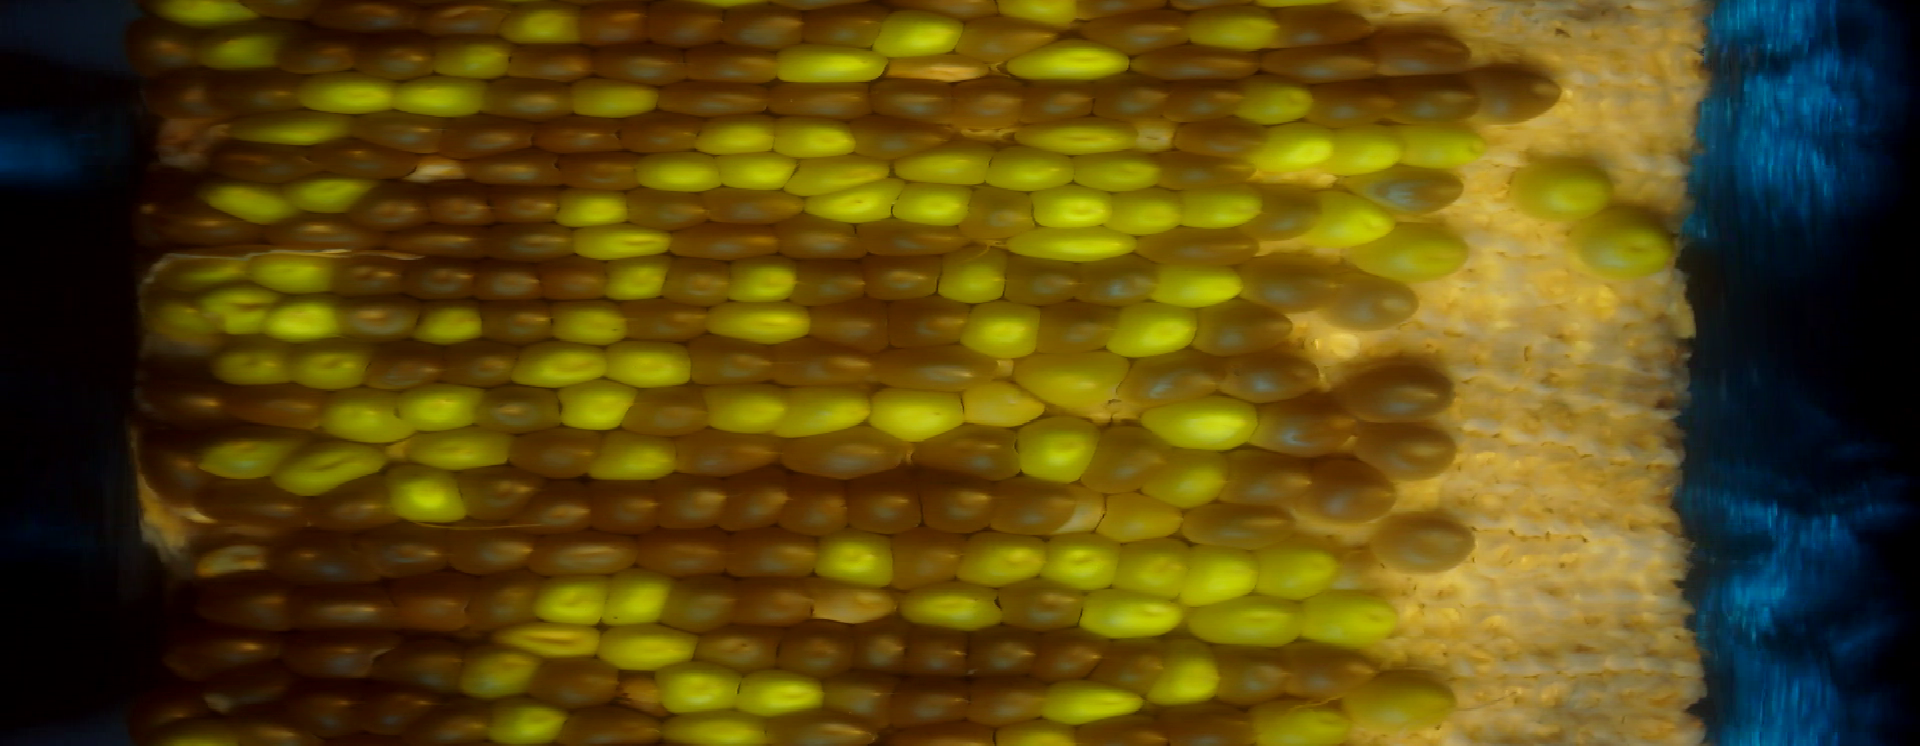fluorescent: (1566, 201, 1678, 281), (1009, 412, 1107, 488), (1341, 224, 1467, 283), (1018, 348, 1129, 412), (1130, 396, 1261, 448), (1184, 590, 1309, 646), (1513, 160, 1619, 223), (1076, 590, 1200, 641), (321, 383, 413, 450), (1357, 677, 1461, 735), (277, 439, 381, 495), (779, 381, 876, 440), (862, 387, 967, 441), (809, 527, 898, 590), (1007, 116, 1145, 157), (1109, 296, 1209, 353), (1304, 587, 1400, 644), (587, 428, 681, 485), (1003, 223, 1140, 262), (197, 430, 309, 478), (958, 296, 1041, 360), (602, 620, 703, 673), (900, 579, 1007, 628), (771, 40, 889, 85), (296, 69, 399, 119), (898, 140, 996, 192), (1010, 40, 1133, 82), (204, 178, 305, 228), (1258, 695, 1356, 746), (1117, 533, 1189, 601), (549, 376, 640, 430), (699, 379, 791, 432), (656, 659, 742, 717), (1184, 4, 1282, 54), (709, 296, 812, 344), (962, 529, 1049, 586), (403, 424, 517, 467), (873, 6, 967, 58), (1251, 540, 1335, 598), (387, 464, 467, 524), (400, 382, 484, 439), (607, 334, 694, 388), (654, 703, 763, 746), (1042, 534, 1128, 588), (211, 334, 298, 387), (1102, 488, 1187, 541), (228, 111, 350, 148), (500, 619, 604, 661), (247, 249, 340, 296), (771, 111, 862, 160), (284, 171, 382, 217), (516, 339, 613, 385), (1187, 540, 1258, 603), (465, 638, 539, 698), (1073, 146, 1162, 195), (562, 222, 677, 260), (1250, 122, 1335, 174), (1404, 122, 1487, 175), (1144, 453, 1226, 506), (203, 20, 291, 69), (535, 570, 609, 628), (571, 71, 662, 118), (634, 148, 726, 195), (807, 176, 900, 222), (733, 670, 824, 717), (1315, 190, 1391, 245), (934, 246, 1007, 304), (200, 281, 277, 334), (1157, 638, 1220, 704), (1177, 185, 1267, 230), (1236, 72, 1313, 125), (1038, 677, 1139, 718), (1025, 183, 1117, 227), (965, 382, 1051, 429), (391, 78, 492, 118), (602, 570, 675, 625), (696, 111, 779, 159), (1333, 122, 1407, 176), (986, 146, 1075, 190), (546, 303, 633, 348), (291, 341, 376, 387), (1155, 262, 1240, 307), (489, 695, 563, 746), (722, 256, 804, 303), (411, 299, 489, 348), (893, 178, 973, 224), (711, 149, 800, 191), (1102, 186, 1183, 232), (160, 250, 247, 292), (269, 296, 349, 341), (787, 159, 889, 192), (556, 185, 633, 228), (604, 254, 671, 303), (438, 37, 512, 80), (497, 7, 583, 43)
nonfluorescent: (142, 191, 266, 249), (1251, 390, 1360, 454), (1370, 513, 1478, 578), (1347, 360, 1458, 423), (904, 425, 1024, 483), (782, 428, 917, 478), (197, 475, 317, 532), (193, 570, 298, 635), (1191, 293, 1298, 355), (1329, 267, 1424, 334), (1242, 254, 1344, 316), (211, 134, 321, 191), (1287, 635, 1379, 703), (1223, 441, 1314, 510), (1308, 454, 1402, 519), (1344, 162, 1463, 213), (845, 469, 929, 541), (291, 577, 397, 635), (991, 477, 1082, 540), (673, 428, 792, 477), (721, 527, 828, 581), (1117, 350, 1221, 405), (372, 632, 468, 692), (1472, 66, 1565, 127), (1360, 423, 1456, 481), (767, 333, 873, 386), (917, 470, 1000, 538), (621, 383, 714, 443), (997, 578, 1087, 639), (669, 219, 787, 266), (1133, 40, 1261, 83), (1082, 424, 1166, 490), (144, 432, 218, 507), (307, 475, 399, 534), (1218, 350, 1322, 402), (1187, 501, 1296, 550), (361, 521, 456, 577), (310, 134, 420, 181), (1135, 225, 1261, 267), (342, 107, 454, 153), (1209, 639, 1291, 703), (1081, 7, 1191, 54), (269, 535, 369, 587), (587, 475, 671, 535), (1389, 70, 1480, 125), (760, 75, 878, 118), (509, 428, 609, 478), (781, 617, 861, 680), (804, 298, 894, 353), (591, 39, 689, 89), (856, 213, 967, 257), (782, 470, 852, 540), (484, 78, 583, 127), (454, 464, 542, 519), (440, 111, 536, 162), (713, 2, 804, 55), (760, 708, 885, 746), (1166, 697, 1262, 746), (869, 72, 955, 127), (683, 38, 781, 86), (282, 632, 380, 680), (699, 185, 804, 229), (389, 575, 467, 635), (1000, 254, 1086, 307), (446, 524, 535, 576), (694, 624, 782, 675), (535, 107, 621, 159), (462, 148, 567, 191), (655, 474, 733, 532), (530, 532, 642, 572), (639, 530, 731, 579), (846, 114, 954, 156), (271, 209, 378, 251), (1247, 183, 1321, 243), (888, 528, 962, 588), (889, 671, 976, 723), (557, 706, 667, 746), (771, 213, 867, 260), (272, 27, 362, 76), (1089, 75, 1177, 125), (136, 65, 218, 119), (160, 632, 280, 669), (1262, 45, 1386, 81), (478, 382, 557, 437), (1310, 78, 1400, 127), (969, 625, 1044, 682), (354, 29, 435, 83), (1158, 141, 1251, 187), (403, 698, 496, 745), (354, 176, 433, 230), (661, 575, 741, 628), (958, 13, 1051, 59), (623, 185, 711, 233), (531, 657, 620, 704), (736, 576, 816, 628), (658, 257, 738, 309), (661, 80, 767, 119), (468, 572, 539, 630), (1078, 254, 1158, 304), (642, 2, 729, 49), (620, 109, 704, 157), (218, 64, 300, 113), (1038, 628, 1109, 685), (803, 2, 888, 49), (721, 472, 787, 530), (503, 40, 596, 82), (965, 185, 1038, 238), (520, 488, 596, 538), (424, 180, 496, 233), (538, 250, 610, 303), (820, 666, 893, 719), (1167, 78, 1244, 127), (1376, 34, 1472, 73), (857, 612, 918, 673), (279, 686, 362, 730), (1093, 644, 1166, 695), (950, 80, 1024, 129), (487, 176, 561, 225), (966, 675, 1044, 720), (909, 627, 976, 680), (1171, 118, 1270, 153), (358, 680, 440, 723), (129, 23, 196, 73), (1273, 9, 1378, 40), (489, 225, 578, 262), (124, 687, 202, 729), (1078, 712, 1172, 746), (891, 53, 991, 85), (558, 153, 636, 192), (1021, 80, 1097, 119), (887, 719, 997, 746), (235, 712, 320, 746), (200, 668, 283, 702), (579, 2, 649, 40)
